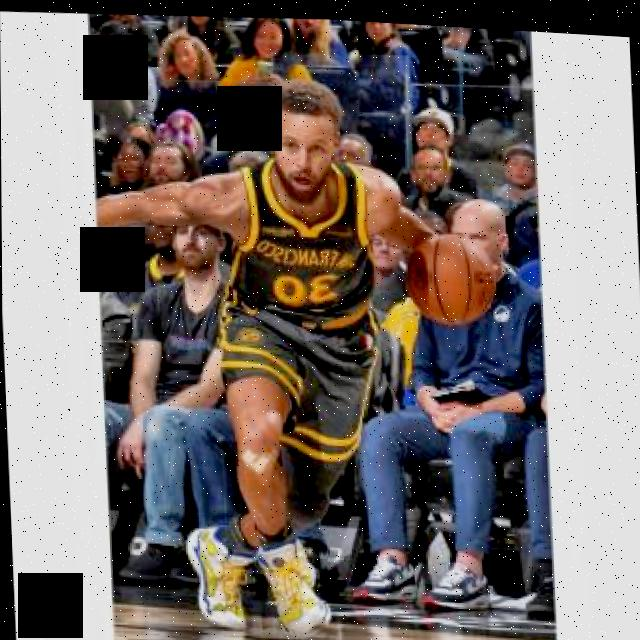shoe: (257, 529, 331, 634), (185, 520, 254, 631), (423, 549, 491, 608), (350, 545, 416, 600)
